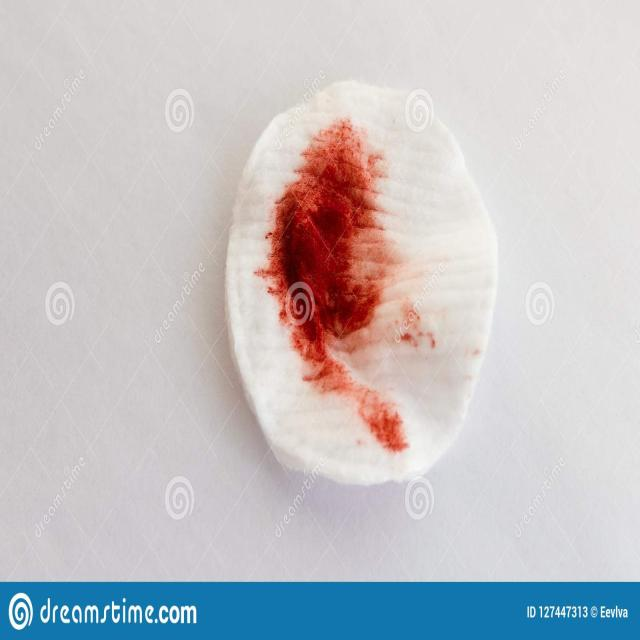B3: (219, 78, 498, 494)
